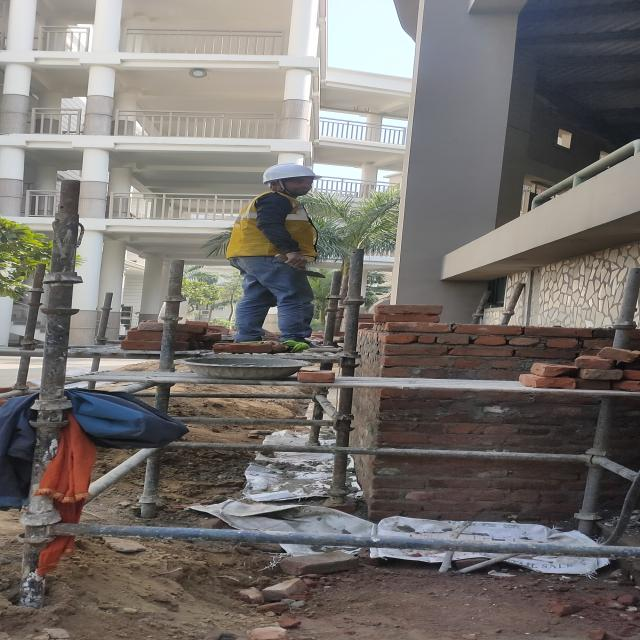safe: (226, 164, 323, 340)
